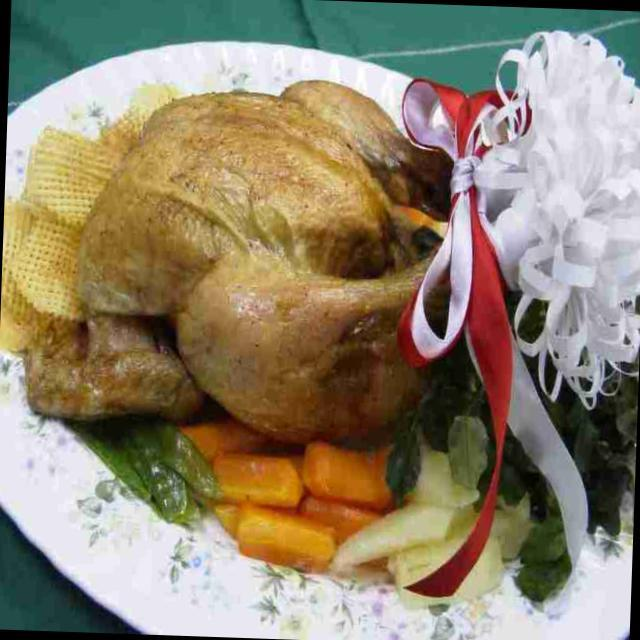Chicken: (34, 75, 404, 432)
